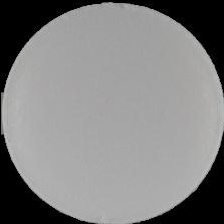16714-482: (0, 0, 224, 224)
